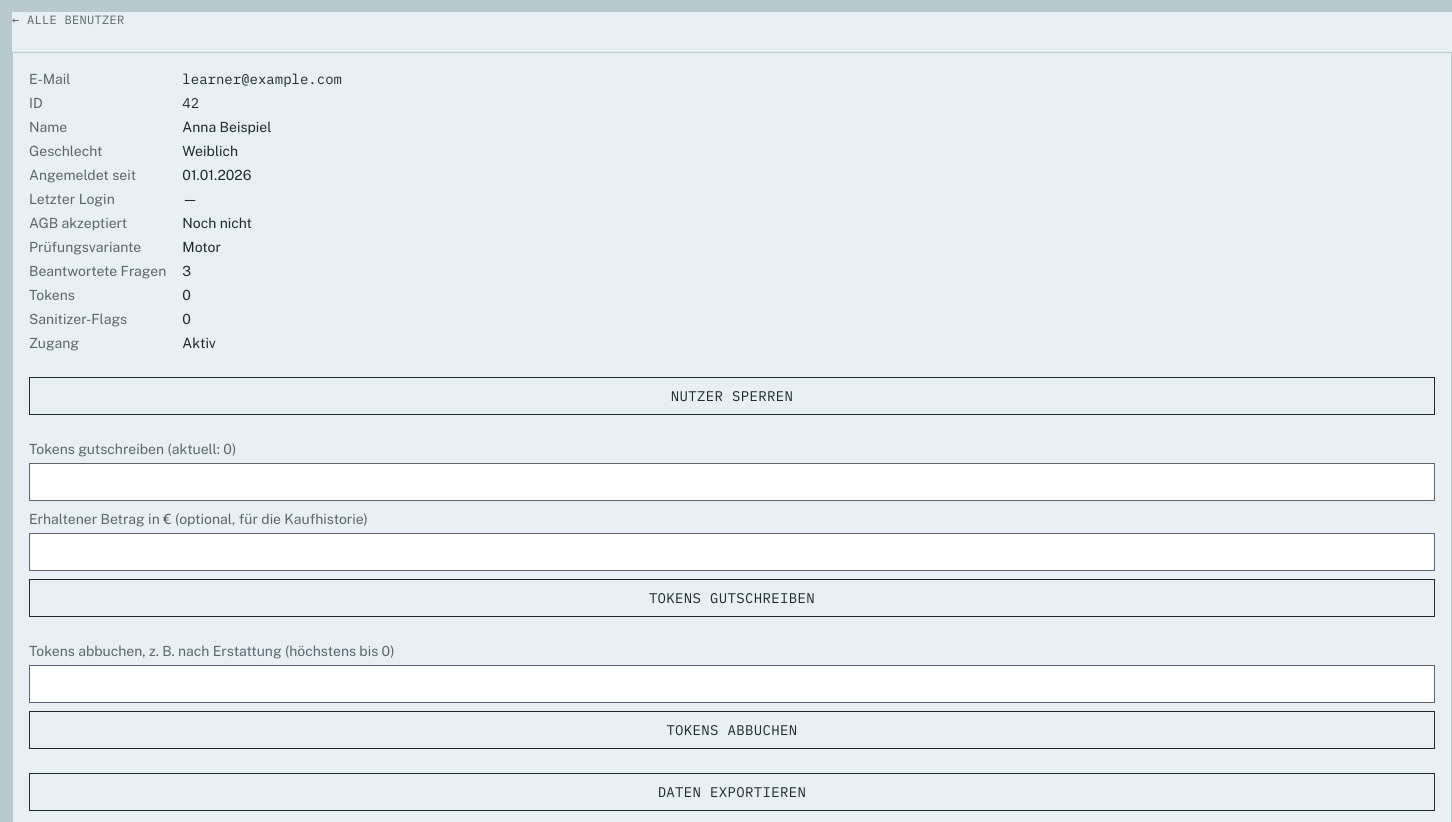
Scenario: AdminUserPage › syncs the admin's own session when they credit tokens to their own account
Expected: the text "learner@example.com" is shown, [182,70,342,88]
Type "20" into the number field labelled "Tokens gutschreiben (aktuell: 0)" at [732, 482], box [29,463,1435,501]
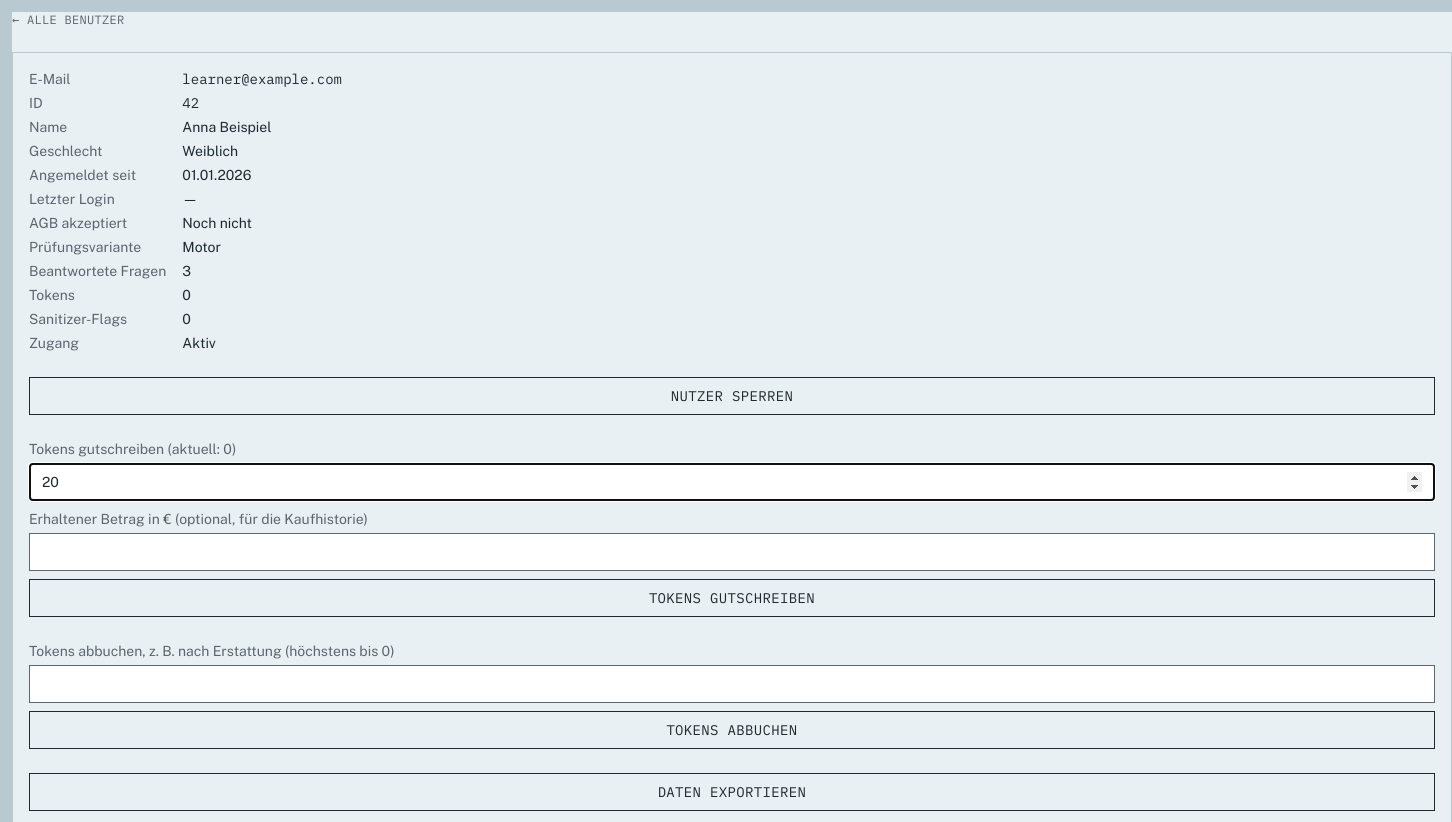
Click the button "Tokens gutschreiben" at [732, 598], box [29,579,1435,617]
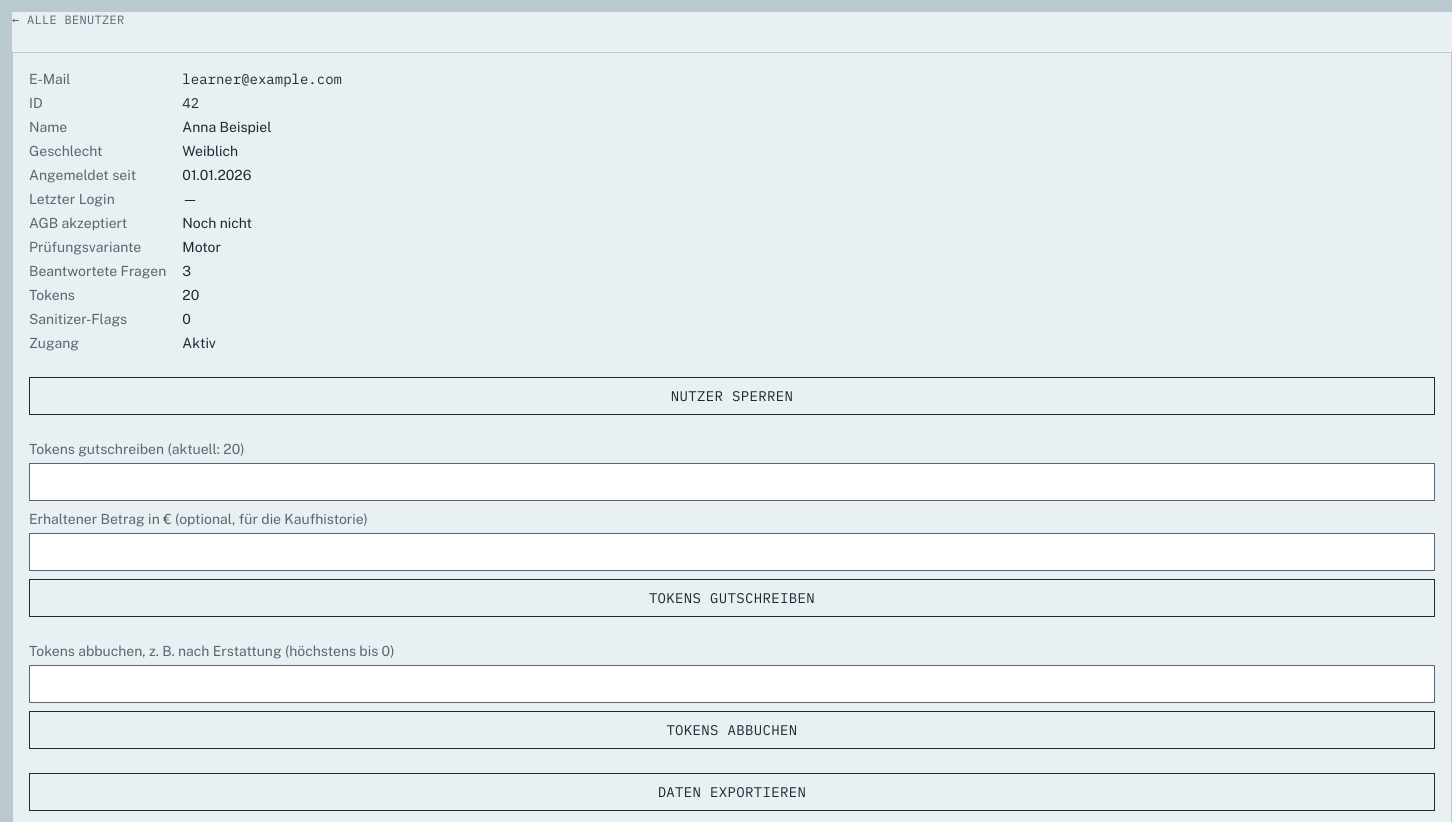
Expected: the text "Tokens gutschreiben (aktuell: 20)" is shown, [29,439,1435,501]
